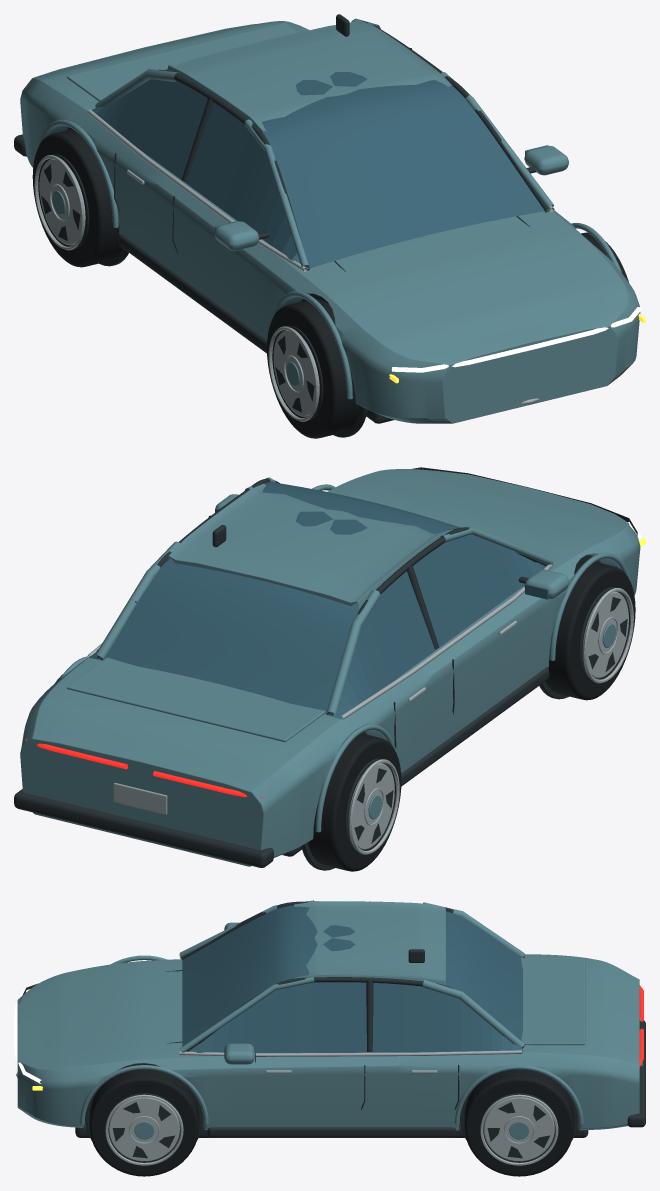
Rendered from sedan.glb.
The picture shows the model from 3 angles, top to bottom: view 1: azimuth 30°, elevation 25°; view 2: azimuth 150°, elevation 25°; view 3: azimuth 270°, elevation 25°; orthographic projection. The views are drawn at different scales.
Parts seen in each view (by area): view 1: body__Body enamel, body__Smoked blue glass, body__Graphite polymer, wheel_L_F__Tire rubber, wheel_L_R__Tire rubber, trunk_lid__Body enamel, wheel_L_R__Machined alloy, wheel_L_F__Machined alloy, body__Machined alloy, body__Headlight ceramic, wheel_L_F__Graphite polymer, wheel_L_R__Graphite polymer; view 2: body__Body enamel, body__Smoked blue glass, body__Graphite polymer, trunk_lid__Body enamel, wheel_L_R__Tire rubber, wheel_L_F__Tire rubber, wheel_L_R__Machined alloy, wheel_L_F__Machined alloy, body__Machined alloy, body__Tail light red, wheel_L_R__Graphite polymer, wheel_L_F__Graphite polymer; view 3: body__Body enamel, body__Smoked blue glass, body__Graphite polymer, trunk_lid__Body enamel, wheel_R_R__Tire rubber, wheel_R_F__Tire rubber, wheel_R_F__Machined alloy, wheel_R_R__Machined alloy, body__Machined alloy, wheel_R_R__Graphite polymer, wheel_R_F__Graphite polymer.
Part boxes in pixels (x1,y1,x2,y2): body__Body enamel: (20, 18, 640, 423); body__Smoked blue glass: (92, 69, 548, 268); body__Graphite polymer: (14, 14, 549, 437); wheel_L_F__Tire rubber: (267, 299, 360, 438); wheel_L_R__Tire rubber: (32, 129, 122, 267); trunk_lid__Body enamel: (66, 23, 298, 101); wheel_L_R__Machined alloy: (34, 155, 85, 250); wheel_L_F__Machined alloy: (268, 326, 319, 421); body__Machined alloy: (87, 109, 554, 404); body__Headlight ceramic: (392, 307, 641, 372); wheel_L_F__Graphite polymer: (274, 325, 323, 419); wheel_L_R__Graphite polymer: (40, 154, 89, 248); body__Body enamel: (20, 469, 640, 866); body__Smoked blue glass: (88, 482, 553, 719); body__Graphite polymer: (14, 467, 637, 870); trunk_lid__Body enamel: (66, 657, 325, 742); wheel_L_R__Tire rubber: (308, 733, 401, 871); wheel_L_F__Tire rubber: (545, 560, 635, 700); wheel_L_R__Machined alloy: (348, 759, 399, 854); wheel_L_F__Machined alloy: (582, 588, 633, 683); body__Machined alloy: (87, 563, 554, 814); body__Tail light red: (25, 739, 262, 798); wheel_L_R__Graphite polymer: (345, 758, 393, 852); wheel_L_F__Graphite polymer: (579, 587, 627, 681); body__Body enamel: (17, 900, 639, 1130); body__Smoked blue glass: (182, 905, 522, 1062); body__Graphite polymer: (18, 901, 645, 1140); trunk_lid__Body enamel: (521, 958, 585, 1045); wheel_R_R__Tire rubber: (464, 1069, 574, 1176); wheel_R_F__Tire rubber: (89, 1069, 199, 1176); wheel_R_F__Machined alloy: (105, 1094, 183, 1165); wheel_R_R__Machined alloy: (480, 1094, 558, 1165); body__Machined alloy: (16, 955, 642, 1077); wheel_R_R__Graphite polymer: (482, 1093, 556, 1162); wheel_R_F__Graphite polymer: (106, 1093, 181, 1162).
Size of the model in its own units: 2.49 by 1.72 by 4.99.
